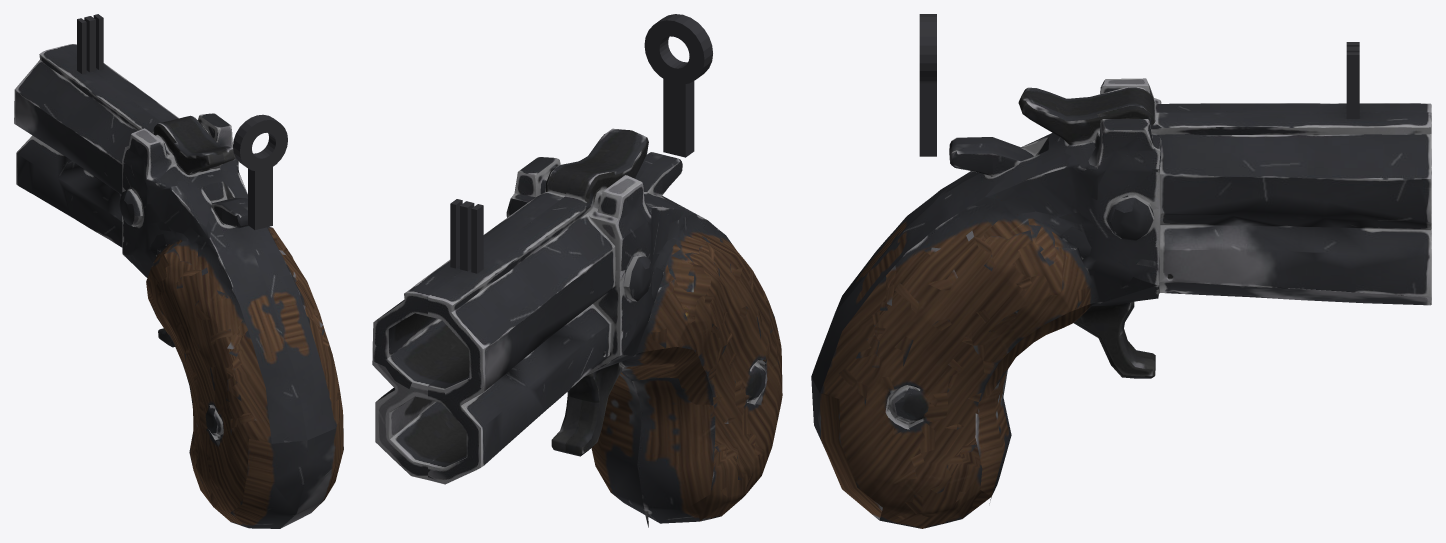
Rendered from derringer.glb.
3 views of the same model, side by side, from view 1: azimuth 30°, elevation 25°; view 2: azimuth 150°, elevation 25°; view 3: azimuth 270°, elevation 25° (orthographic). The views are drawn at different scales.
Visible parts, largest first — view 1: derringer_world, rear_ring, rear_stem, front_post, front_ear-1, front_ear1; view 2: derringer_world, rear_ring, rear_stem, front_ear-1, front_post, front_ear1; view 3: derringer_world, rear_stem, rear_ring, front_ear1.
Part boxes in pixels (x1=…): derringer_world: x1=14, y1=44, x2=343, y2=528; rear_ring: x1=233, y1=114, x2=287, y2=170; rear_stem: x1=248, y1=163, x2=272, y2=229; front_post: x1=84, y1=16, x2=95, y2=72; front_ear-1: x1=77, y1=18, x2=86, y2=73; front_ear1: x1=93, y1=14, x2=103, y2=69; derringer_world: x1=372, y1=128, x2=782, y2=527; rear_ring: x1=644, y1=14, x2=712, y2=84; rear_stem: x1=663, y1=74, x2=694, y2=157; front_ear-1: x1=471, y1=204, x2=483, y2=273; front_post: x1=460, y1=201, x2=474, y2=271; front_ear1: x1=450, y1=199, x2=462, y2=268; derringer_world: x1=811, y1=78, x2=1431, y2=528; rear_stem: x1=919, y1=83, x2=936, y2=156; rear_ring: x1=919, y1=14, x2=936, y2=83; front_ear1: x1=1346, y1=52, x2=1359, y2=118.
Size of the model in its own units: 0.0482 by 0.1436 by 0.1606.
2 materials, 1 textured.
